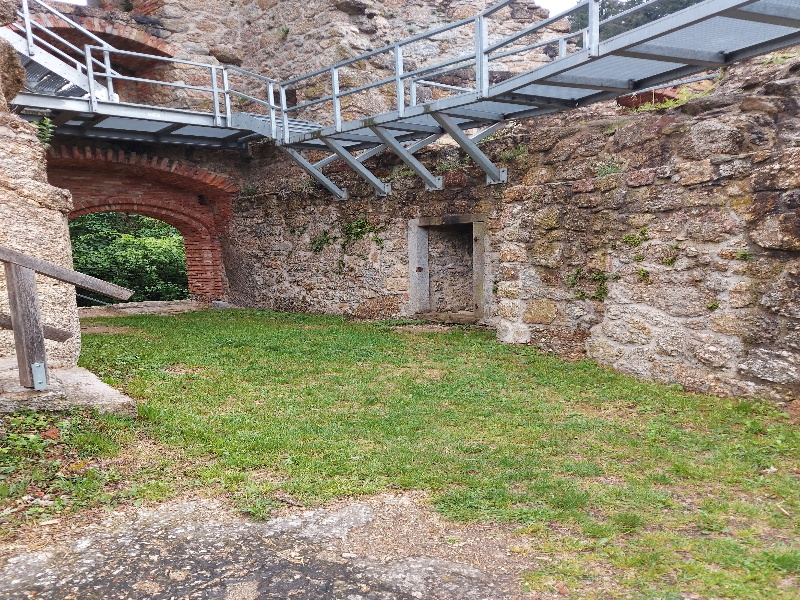door1: (393, 208, 508, 330)
